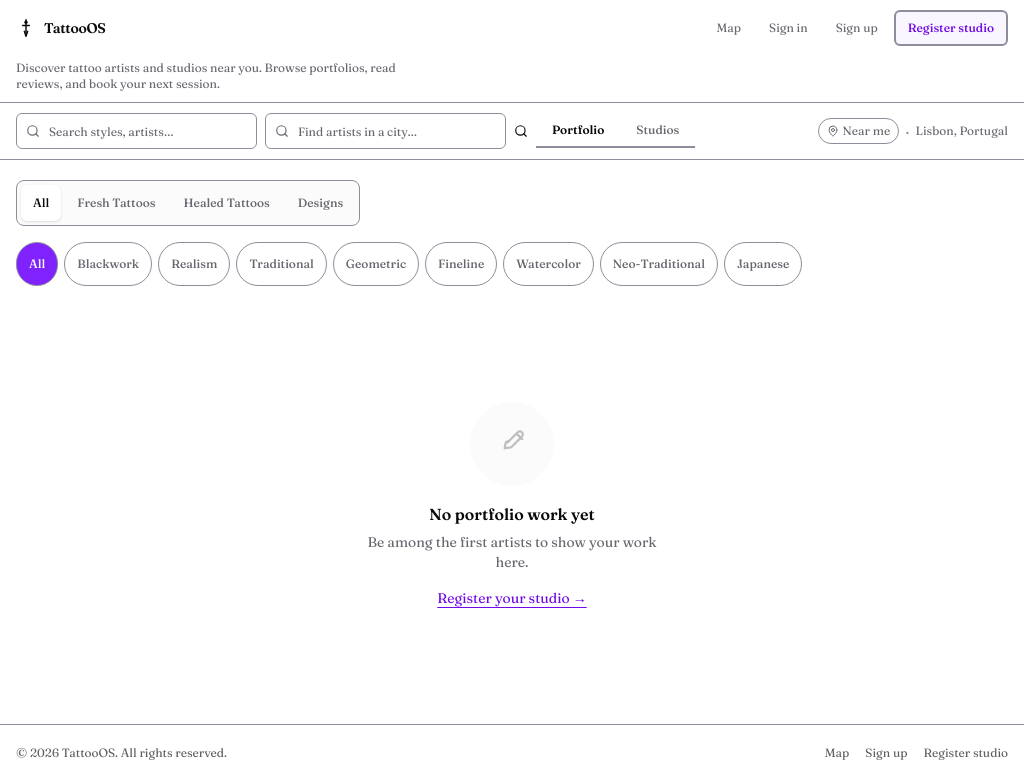
DiscoverPage › renders the studio name in the card after switching to Studios tab
The width and height of the screenshot is (1024, 768).
Click the tab "Studios": [658, 131] box [620,114,695,148]
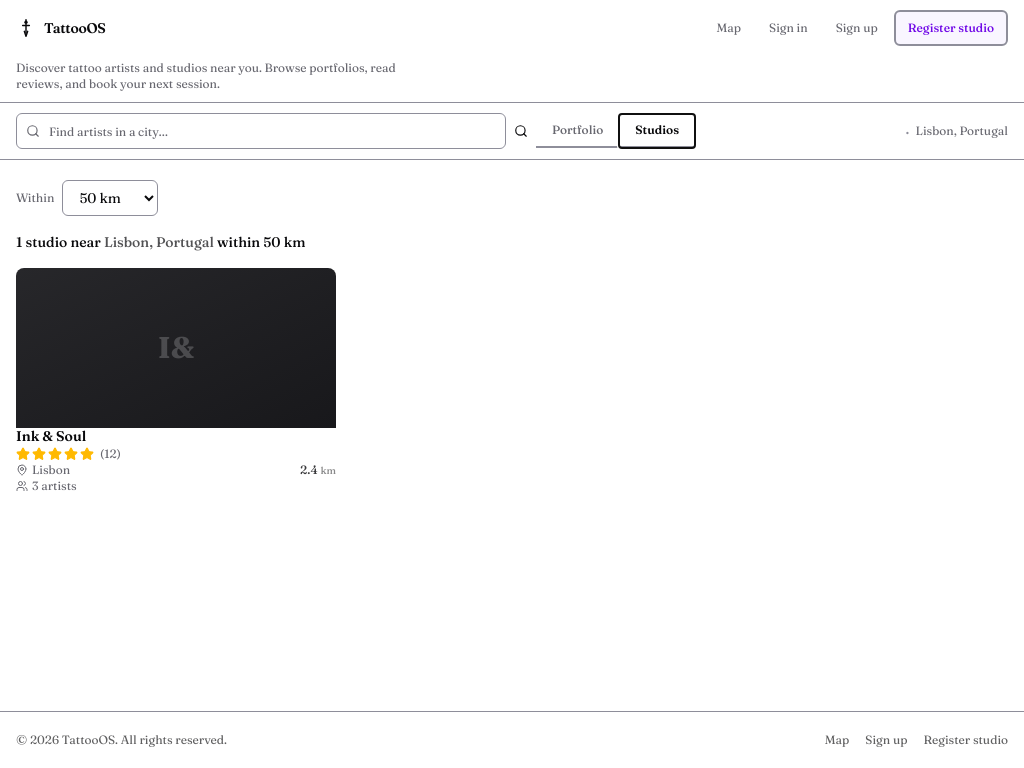
Check: the text "Ink & Soul" is shown, box [16,427,86,445]
